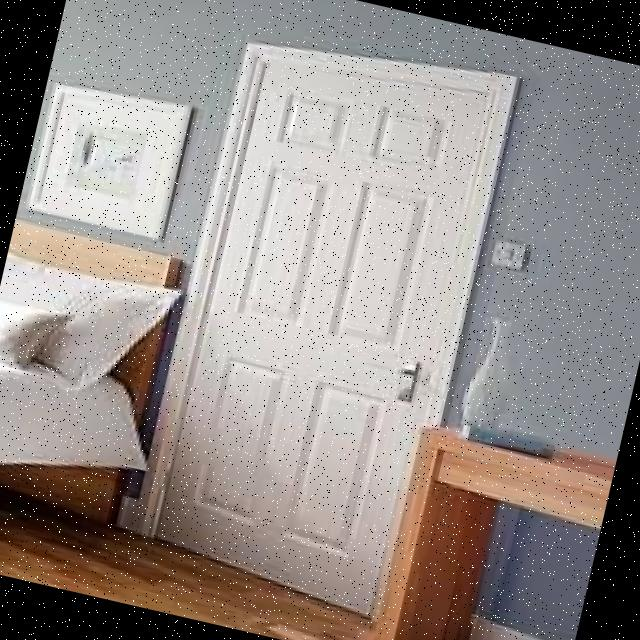Door: (138, 20, 510, 630)
